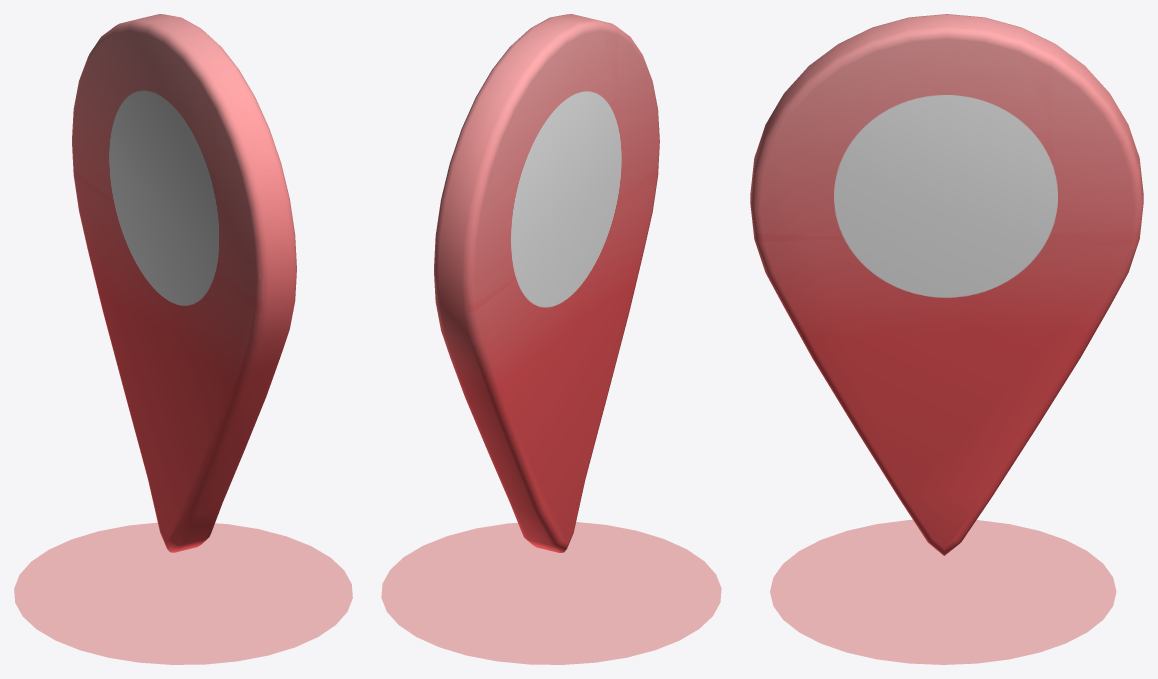
File: point3D.glb
The picture shows the model from 3 angles, left to right: view 1: azimuth 30°, elevation 25°; view 2: azimuth 150°, elevation 25°; view 3: azimuth 270°, elevation 25°; orthographic projection. The views are drawn at different scales.
Parts seen in each view (by area): view 1: Circle; view 2: Circle; view 3: Circle.
Boxes of the visible parts, x1,y1,x2,y2 form: Circle: [14, 14, 352, 664]; Circle: [381, 14, 721, 664]; Circle: [750, 14, 1143, 664].
Size of the model in its own units: 0.7825 by 1.43 by 0.8874.
Materials: 1 (1 with a texture image).
